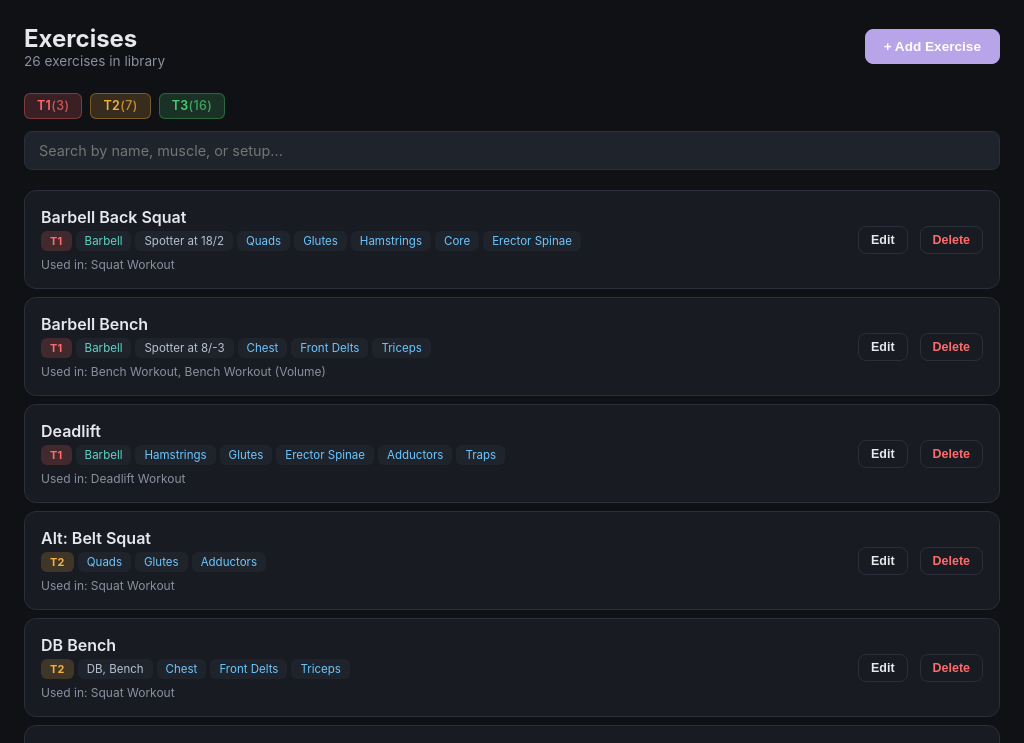
Test: ExercisesPage — tier filter pills › composes the tier pill with the text search (AND)
Check: the link "Barbell Back Squat" is shown, box [41,208,186,228]
Type "squat" into the field with placeholder "Search by name, muscle, or setup...".
click(512, 151); type("squat")  # box [24,132,1000,170]
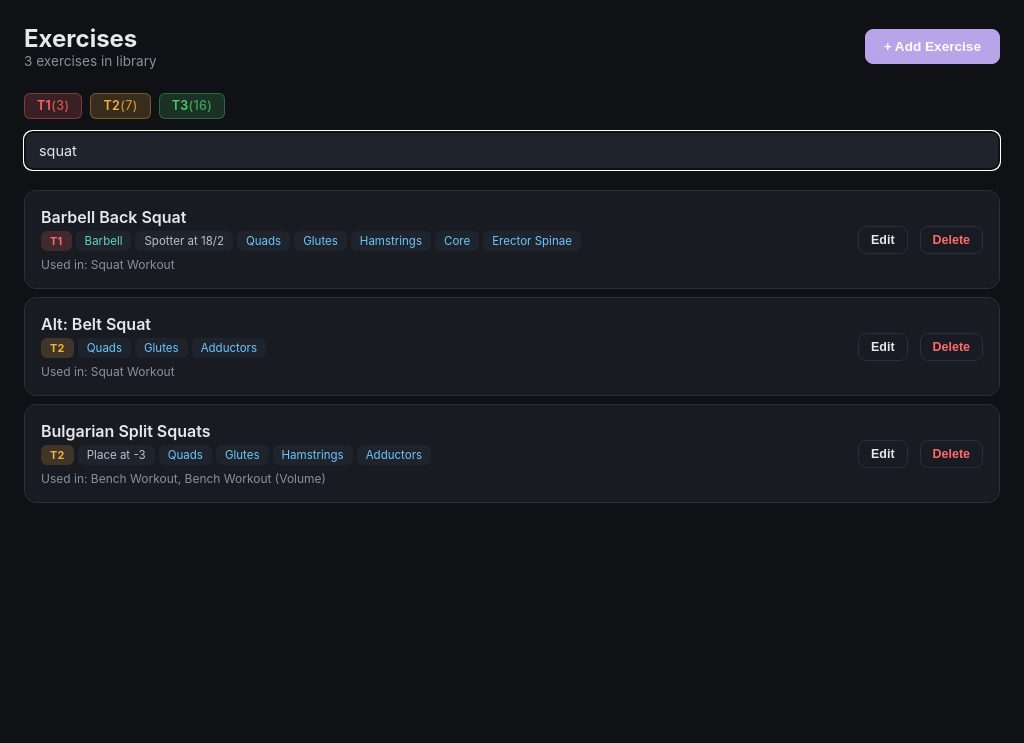
Check: the link "Alt: Belt Squat" is shown, box [41,314,151,334]
Check: the link "Barbell Back Squat" is shown, box [41,208,186,228]
Click the button named "T1,".
click(53, 106)  # box [24,93,82,120]
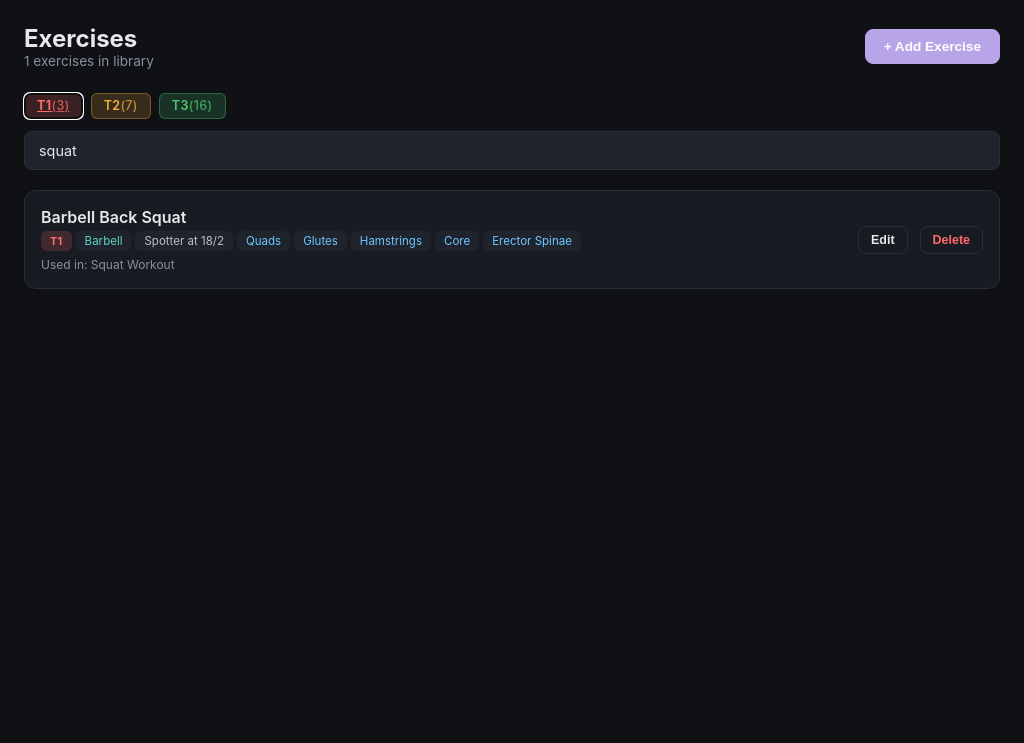
Check: the link "Barbell Back Squat" is shown, box [41,208,186,228]
Check: the link "Alt: Belt Squat" is gone
